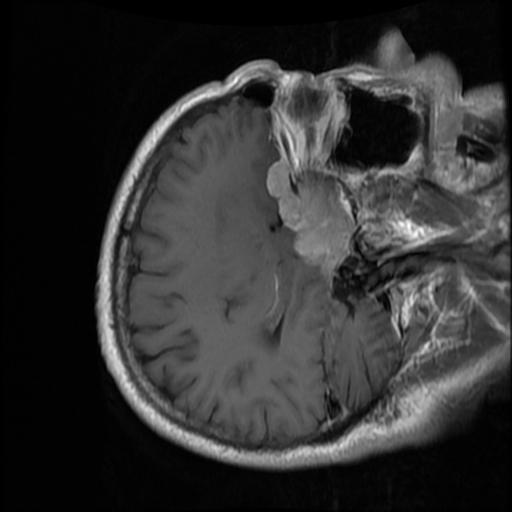meningioma: (264, 160, 351, 274)
